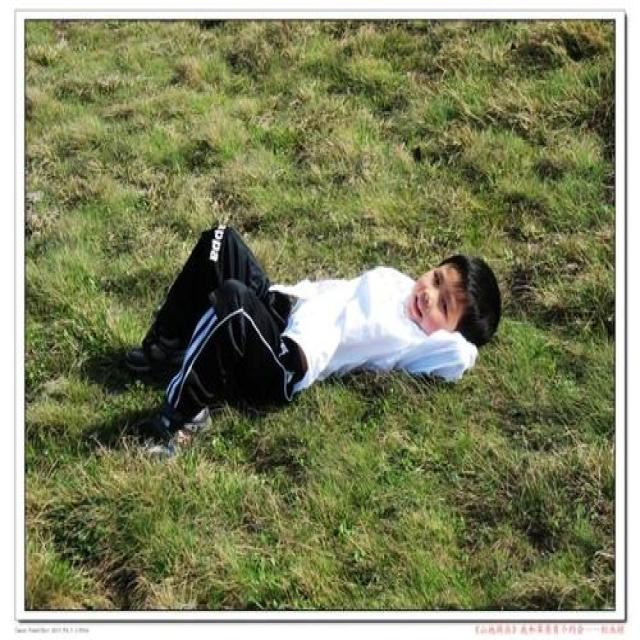fall: (139, 212, 484, 394)
